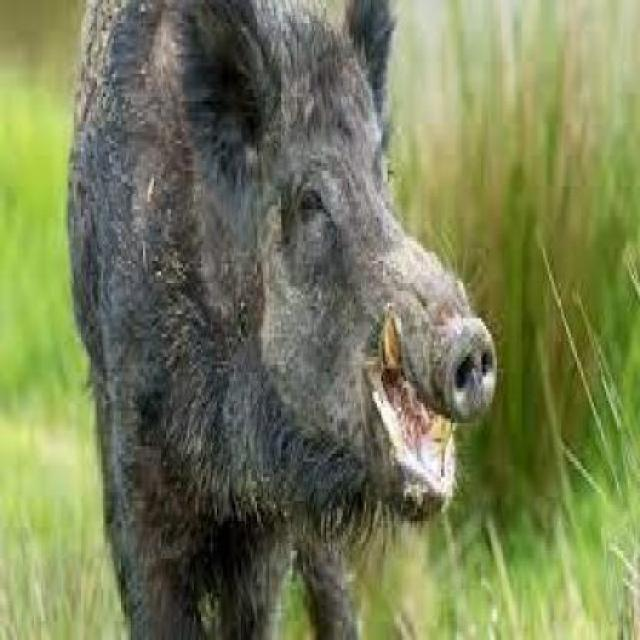wildboar: (58, 0, 502, 640)
